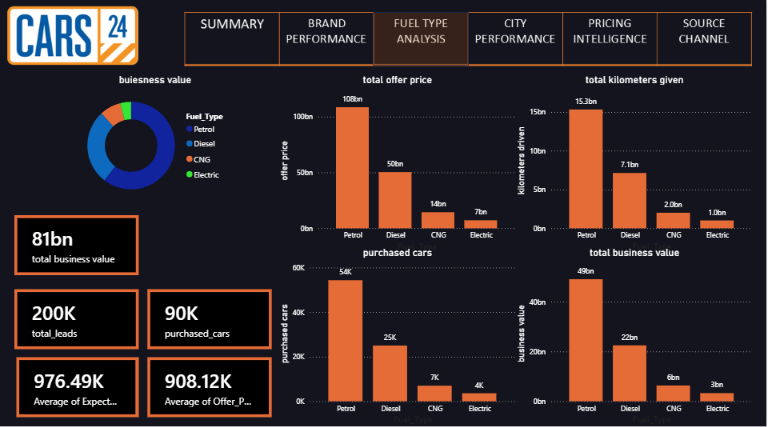

This screenshot's page, from the dashboard's own definition file:
{"tool":"powerbi","page":{"name":"fuel type analysis","canvas":[1280,720],"ordinal":2},"visuals":[{"type":"clusteredColumnChart","title":"total kilometers given","fields":{"Category":["Cars24_Realistic_Dataset_FULL_c.Fuel_Type"],"Y":["Sum(Cars24_Realistic_Dataset_FULL_c.Kilometers_Driven)"]},"box":[862.5,123.8,393.8,297.5],"z":0},{"type":"clusteredColumnChart","title":"total offer price","fields":{"Category":["Cars24_Realistic_Dataset_FULL_c.Fuel_Type"],"Y":["Sum(Cars24_Realistic_Dataset_FULL_c.Offer_Price)"]},"box":[468.8,123.8,393.8,297.5],"z":1000},{"type":"clusteredColumnChart","title":"purchased cars","fields":{"Category":["Cars24_Realistic_Dataset_FULL_c.Fuel_Type"],"Y":["Cars24_Realistic_Dataset_FULL_c.purchased_cars"]},"box":[468.8,411.2,393.8,297.5],"z":2000},{"type":"clusteredColumnChart","title":"total business value","fields":{"Category":["Cars24_Realistic_Dataset_FULL_c.Fuel_Type"],"Y":["Cars24_Realistic_Dataset_FULL_c.total_buisness_value"]},"box":[862.5,411.2,393.8,297.5],"z":3000},{"type":"donutChart","title":"buiesness value","fields":{"Category":["Cars24_Realistic_Dataset_FULL_c.Fuel_Type"],"Y":["Cars24_Realistic_Dataset_FULL_c.total_buisness_value"]},"box":[130,123.8,262.5,217.5],"z":4000},{"type":"cardVisual","fields":{"Data":["Cars24_Realistic_Dataset_FULL_c.total_leads"]},"box":[26.2,483.8,207.5,100],"z":5000},{"type":"cardVisual","fields":{"Data":["Avg(Cars24_Realistic_Dataset_FULL_c.Expected_Price)"]},"box":[30,596.2,203.8,100],"z":6000},{"type":"cardVisual","fields":{"Data":["Avg(Cars24_Realistic_Dataset_FULL_c.Offer_Price)"]},"box":[247.5,596.2,207.5,100],"z":7000},{"type":"cardVisual","fields":{"Data":["Cars24_Realistic_Dataset_FULL_c.total_buisness_value"]},"box":[26.2,360,207.5,100],"z":8000},{"type":"cardVisual","fields":{"Data":["Cars24_Realistic_Dataset_FULL_c.purchased_cars"]},"box":[247.5,483.8,207.5,100],"z":9000},{"type":"actionButton","box":[470,22.7,154.5,92.7],"z":9001},{"type":"actionButton","box":[782.7,22.7,158.2,92.7],"z":9002},{"type":"actionButton","box":[940.9,22.7,158.2,92.7],"z":9003},{"type":"actionButton","box":[1099.1,22.7,158.2,92.7],"z":9004},{"type":"actionButton","box":[311.8,23.6,154.5,92.7],"z":9005}]}

Visuals, with their boxes in screenshot pixels (x1, y1, x2, y2), scaled from the page's 1280x720 canvas onto the 768x427 screenshot:
"total kilometers given" clusteredColumnChart: [518,73,754,250]
"total offer price" clusteredColumnChart: [281,73,518,250]
"purchased cars" clusteredColumnChart: [281,244,518,420]
"total business value" clusteredColumnChart: [518,244,754,420]
"buiesness value" donutChart: [78,73,236,202]
cardVisual - Cars24_Realistic_Dataset_FULL_c.total_leads: [16,287,140,346]
cardVisual - Avg(Cars24_Realistic_Dataset_FULL_c.Expected_Price): [18,354,140,413]
cardVisual - Avg(Cars24_Realistic_Dataset_FULL_c.Offer_Price): [148,354,273,413]
cardVisual - Cars24_Realistic_Dataset_FULL_c.total_buisness_value: [16,214,140,273]
cardVisual - Cars24_Realistic_Dataset_FULL_c.purchased_cars: [148,287,273,346]
actionButton: [282,13,375,68]
actionButton: [470,13,565,68]
actionButton: [565,13,659,68]
actionButton: [659,13,754,68]
actionButton: [187,14,280,69]
